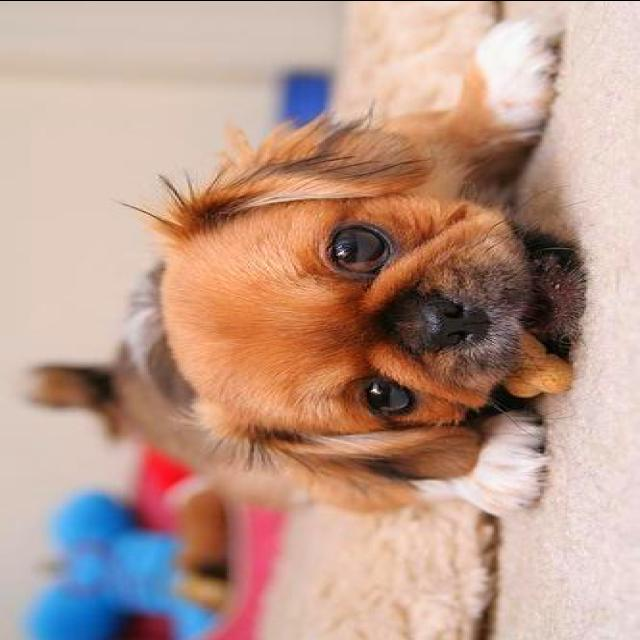pekinese: (114, 1, 594, 522)
